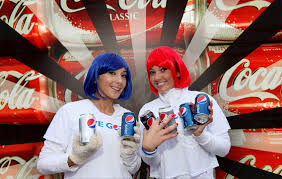can: (117, 93, 140, 145), (73, 111, 100, 147), (177, 100, 195, 136), (195, 93, 215, 124)
